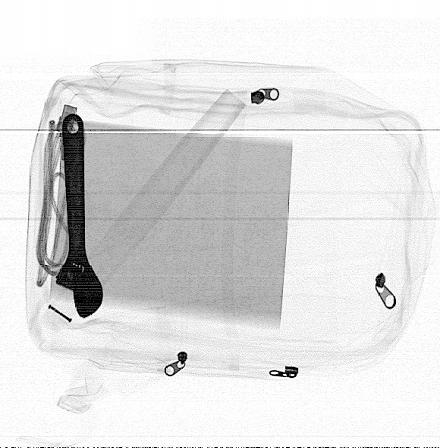Wrench: (55, 112, 104, 321)
